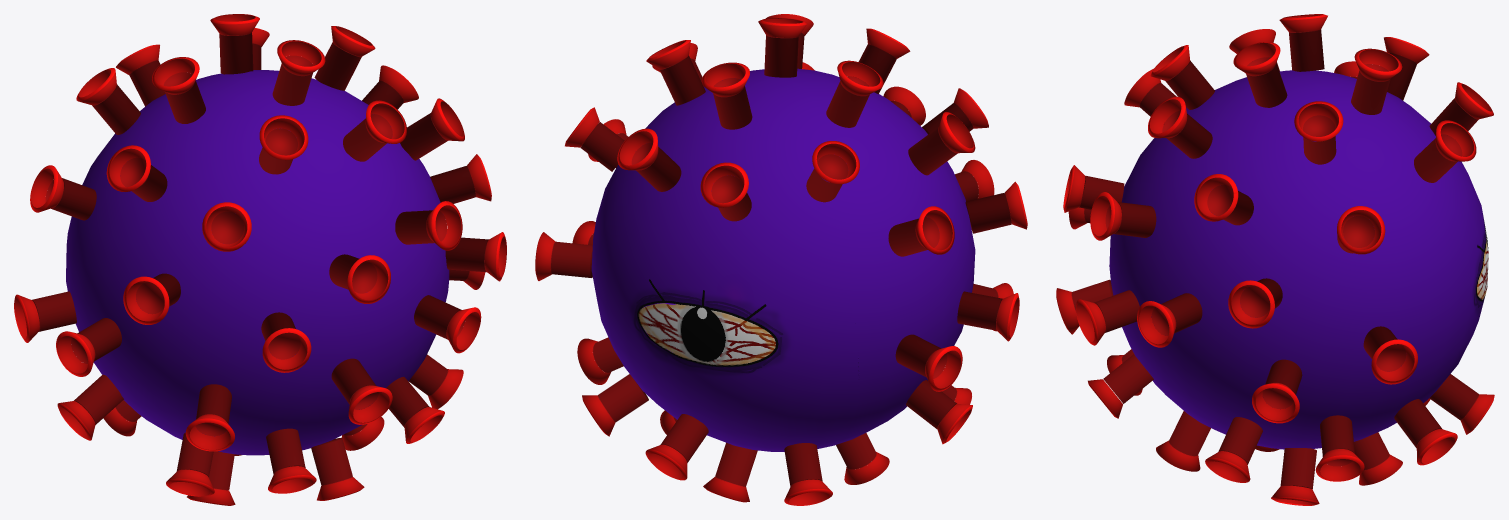
The model's file is 2ndEnemy.obj.
3 renders of one model, left to right at view 1: azimuth 30°, elevation 25°; view 2: azimuth 150°, elevation 25°; view 3: azimuth 270°, elevation 25°, orthographic.
Visible parts, largest first — view 1: 球; view 2: 球; view 3: 球.
Boxes of the visible parts, <box> form: 球: <box>14,14,506,505</box>; 球: <box>535,14,1027,505</box>; 球: <box>1056,14,1494,505</box>.
Bounding box in the file's own units: 2.56 × 2.53 × 2.3.
2 materials, 2 textured.
